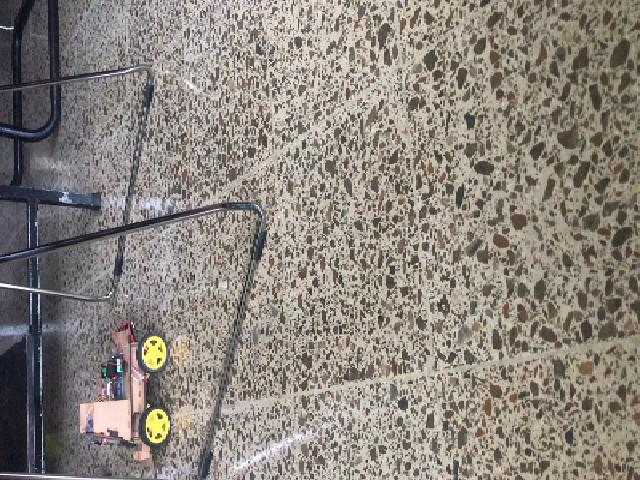Robot: (80, 326, 168, 461)
